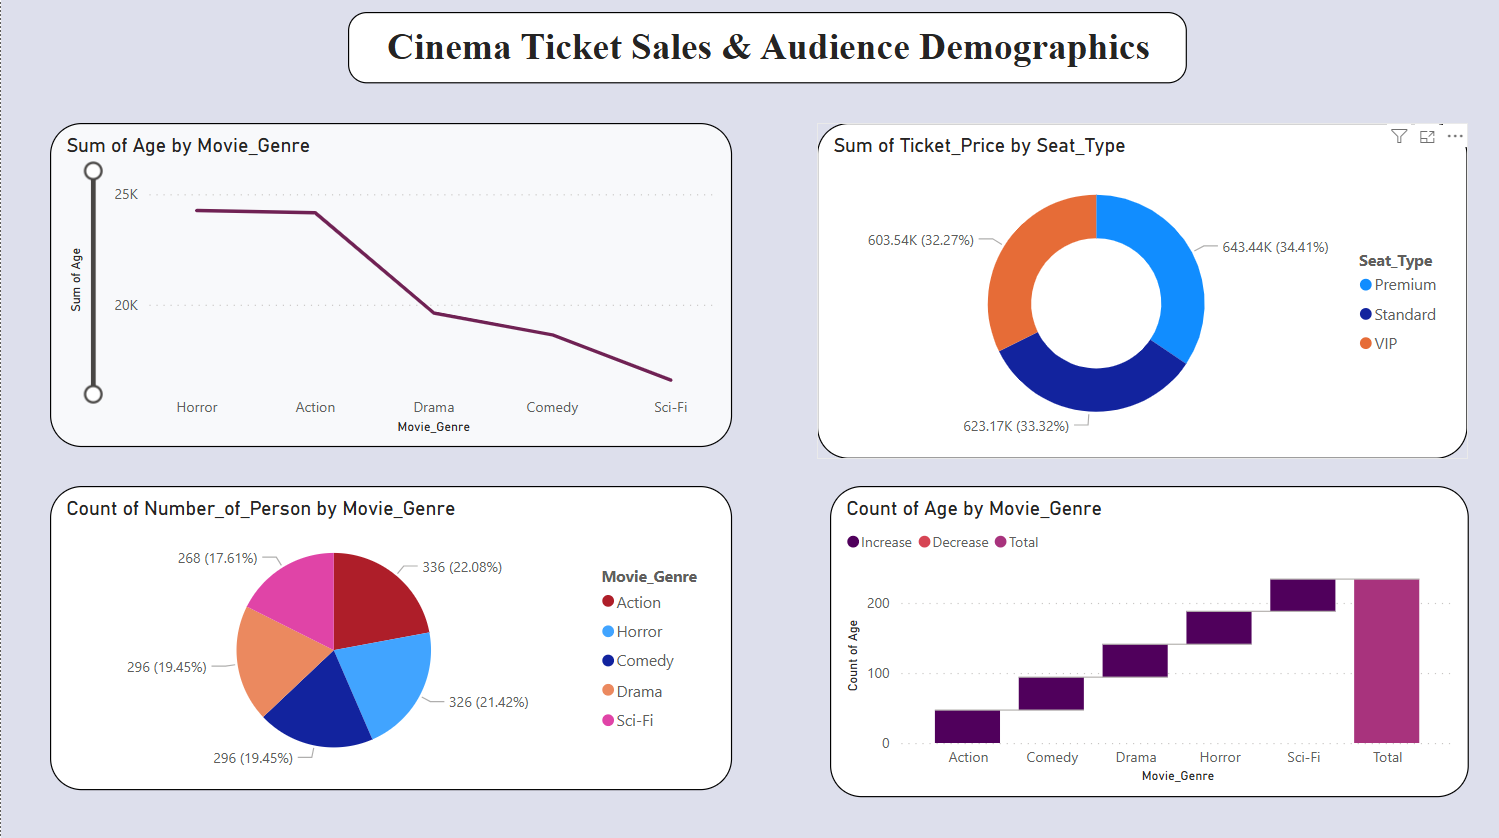

The page's visual inventory and layout, read from the dashboard file:
{"tool":"powerbi","page":{"name":"Page 1","canvas":[1280,720],"ordinal":0},"visuals":[{"type":"textbox","box":[296.7,10.4,716.8,61.2],"z":0},{"type":"lineChart","fields":{"Category":["cleaned_dataset.Movie_Genre"],"Y":["Sum(cleaned_dataset.Age)"]},"box":[42.3,105.2,583.1,276.9],"z":1000},{"type":"pieChart","fields":{"Category":["cleaned_dataset.Movie_Genre"],"Y":["CountNonNull(cleaned_dataset.Number_of_Person)"]},"box":[42.3,415.7,583.1,259.6],"z":2000},{"type":"donutChart","fields":{"Category":["cleaned_dataset.Seat_Type"],"Y":["Sum(cleaned_dataset.Ticket_Price)"]},"box":[697.8,105.2,556.3,287.2],"z":3000},{"type":"waterfallChart","fields":{"Category":["cleaned_dataset.Movie_Genre"],"Y":["Count(cleaned_dataset.Age)"]},"box":[708.1,415.7,546,265.7],"z":4000}]}

Visuals, with their boxes in screenshot pixels (x1, y1, x2, y2), scaled from the page's 1280x720 canvas onto the 1499x838 screenshot:
textbox: bbox=(347, 12, 1187, 83)
lineChart - cleaned_dataset.Movie_Genre x Sum(cleaned_dataset.Age): bbox=(50, 122, 732, 445)
pieChart - cleaned_dataset.Movie_Genre x CountNonNull(cleaned_dataset.Number_of_Person): bbox=(50, 484, 732, 786)
donutChart - cleaned_dataset.Seat_Type x Sum(cleaned_dataset.Ticket_Price): bbox=(817, 122, 1469, 457)
waterfallChart - cleaned_dataset.Movie_Genre x Count(cleaned_dataset.Age): bbox=(829, 484, 1469, 793)
